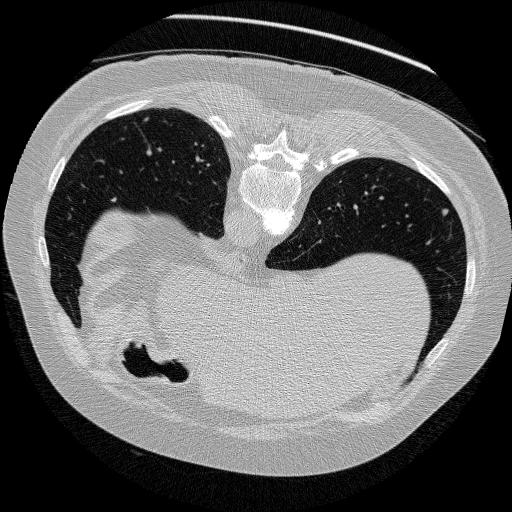nodule: (440, 208, 453, 221)
